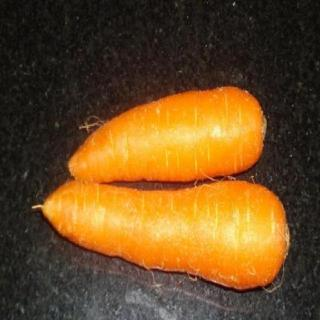carrot: (27, 180, 291, 288), (69, 88, 268, 184)
